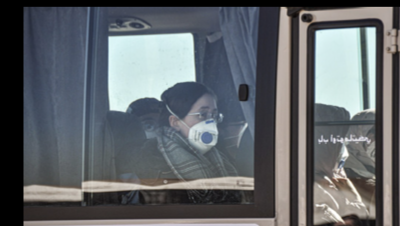with_mask: (184, 103, 220, 155)
